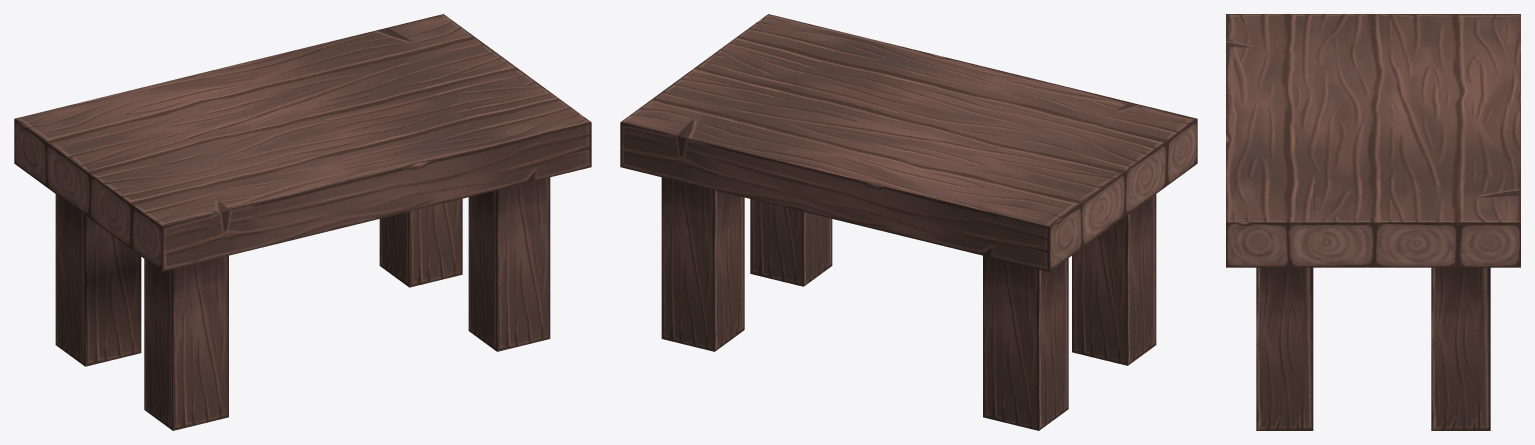
File: Table.FBX
3 views of the same model, side by side, from view 1: azimuth 30°, elevation 25°; view 2: azimuth 150°, elevation 25°; view 3: azimuth 270°, elevation 25° (orthographic).
Visible parts, largest first — view 1: Object079; view 2: Object079; view 3: Object079.
Boxes of the visible parts, x1,y1,x2,y2 form: Object079: (14, 14, 591, 430); Object079: (620, 14, 1197, 430); Object079: (1226, 14, 1520, 430).
Size of the model in its own units: 173 by 85.26 by 103.
